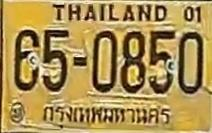0: (177, 31, 203, 94), (92, 30, 117, 91)
5: (42, 29, 70, 91), (148, 30, 174, 93)
6: (14, 30, 40, 90)
8: (120, 31, 145, 92)
BKK: (41, 103, 173, 126)
